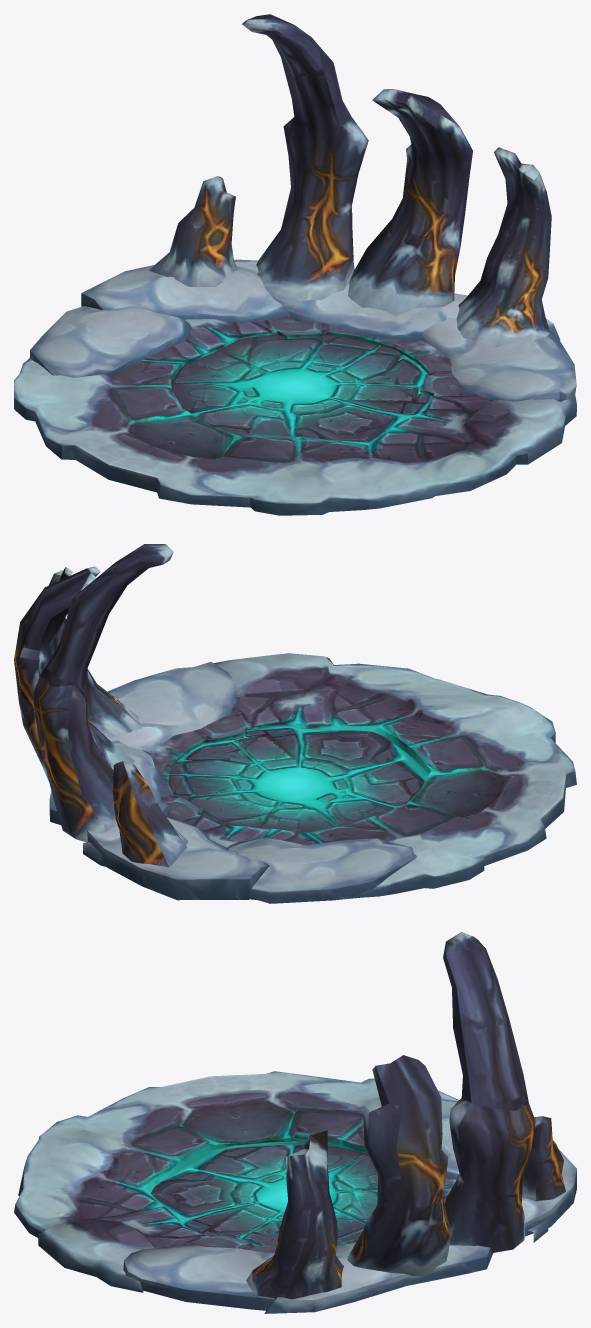
The model's file is xs_bosstaizi.FBX.
The picture shows the model from 3 angles, top to bottom: view 1: azimuth 30°, elevation 25°; view 2: azimuth 150°, elevation 25°; view 3: azimuth 270°, elevation 25°; orthographic projection. The views are drawn at different scales.
Parts seen in each view (by area): view 1: xs_taizi; view 2: xs_taizi; view 3: xs_taizi.
Boxes of the visible parts, x1,y1,x2,y2 form: xs_taizi: (14,14,576,515); xs_taizi: (14,544,576,903); xs_taizi: (14,932,576,1313).
Bounding box in the file's own units: 552 × 315 × 556.
